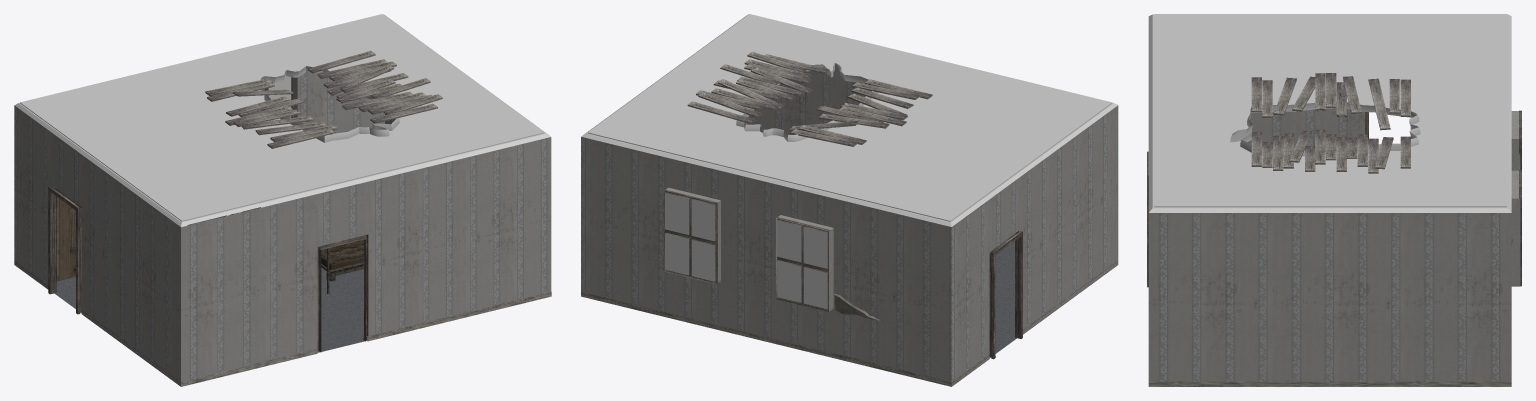
The model's file is Room_test.fbx.
The picture shows the model from 3 angles, left to right: view 1: azimuth 30°, elevation 25°; view 2: azimuth 150°, elevation 25°; view 3: azimuth 270°, elevation 25°; orthographic projection. The views are drawn at different scales.
Visible parts, largest first — view 1: Cylinder_052; view 2: Cylinder_052; view 3: Cylinder_052.
Part boxes in pixels (x1,y1,x2,y2): Cylinder_052: [14, 14, 551, 386]; Cylinder_052: [581, 14, 1118, 386]; Cylinder_052: [1147, 14, 1521, 386].
Size of the model in its own units: 44.44 by 20.32 by 35.37.
